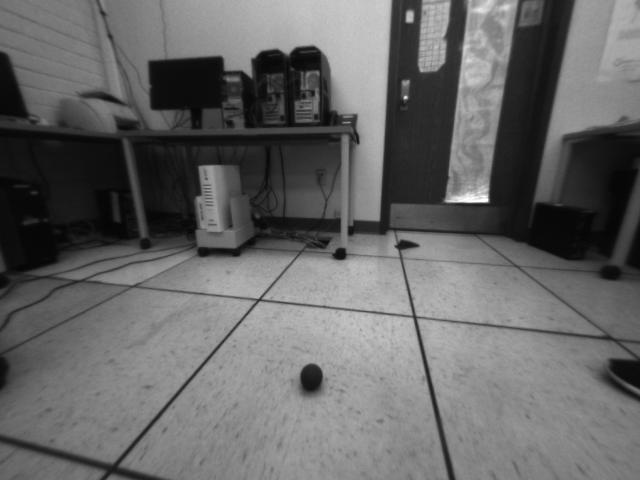dogtoy: (292, 358, 333, 395)
